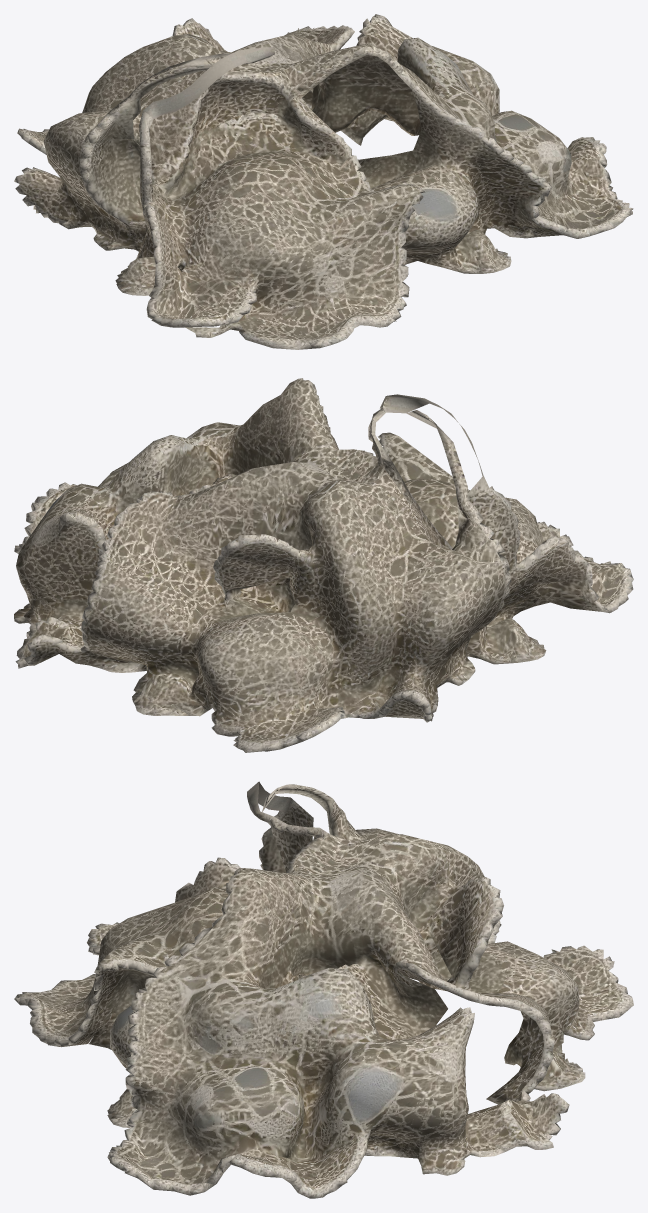
File: lace.glb
3 renders of one model, top to bottom at view 1: azimuth 30°, elevation 25°; view 2: azimuth 150°, elevation 25°; view 3: azimuth 270°, elevation 25°, orthographic. The views are drawn at different scales.
Parts seen in each view (by area): view 1: tripo_node_afa40f73-ff01-4d6e-bb0f-af43d84284fa; view 2: tripo_node_afa40f73-ff01-4d6e-bb0f-af43d84284fa; view 3: tripo_node_afa40f73-ff01-4d6e-bb0f-af43d84284fa.
Part boxes in pixels (x1=…): tripo_node_afa40f73-ff01-4d6e-bb0f-af43d84284fa: x1=14, y1=14, x2=633, y2=349; tripo_node_afa40f73-ff01-4d6e-bb0f-af43d84284fa: x1=14, y1=378, x2=633, y2=752; tripo_node_afa40f73-ff01-4d6e-bb0f-af43d84284fa: x1=14, y1=781, x2=633, y2=1198.
Size of the model in its own units: 0.998 by 0.4121 by 0.998.
Materials: 1 (1 with a texture image).
